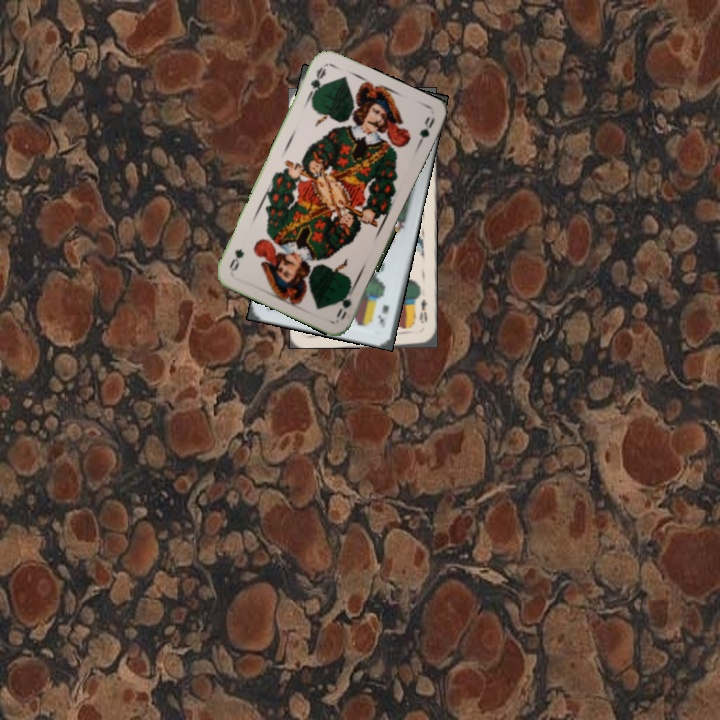EK: (374, 301, 392, 331)
EO: (415, 295, 430, 325)
GO: (304, 62, 329, 102), (332, 283, 357, 322)
